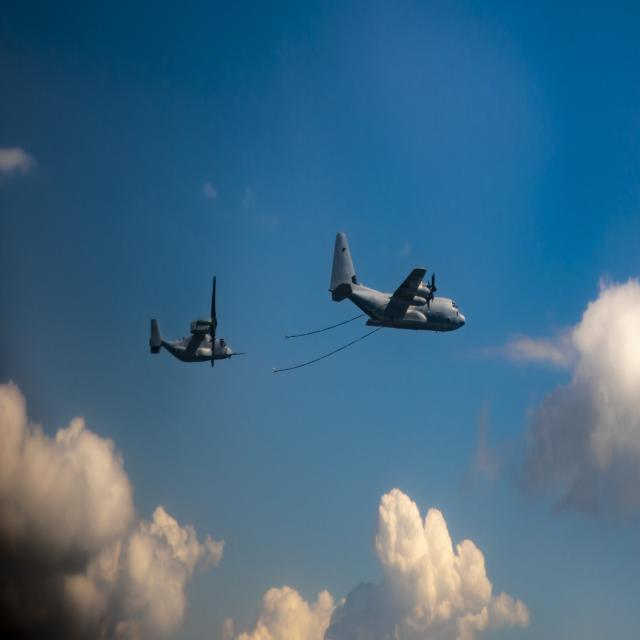MIL_Plane: (8, 232, 145, 333), (149, 276, 246, 368)
